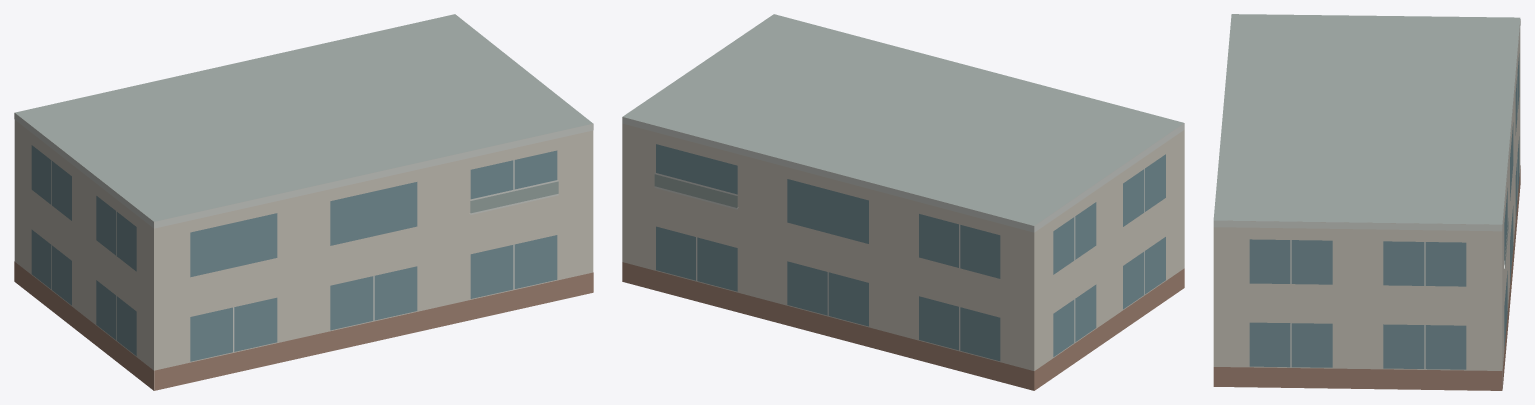
The model's file is survey-upis-32876534.glb.
The picture shows the model from 3 angles, left to right: view 1: azimuth 30°, elevation 25°; view 2: azimuth 150°, elevation 25°; view 3: azimuth 270°, elevation 25°; orthographic projection. The views are drawn at different scales.
Parts seen in each view (by area): view 1: survey-upis-32876534.tmp; view 2: survey-upis-32876534.tmp; view 3: survey-upis-32876534.tmp.
Part boxes in pixels (box(x1,y1,x2,y2)): survey-upis-32876534.tmp: box(14, 14, 593, 390); survey-upis-32876534.tmp: box(622, 14, 1184, 390); survey-upis-32876534.tmp: box(1213, 14, 1520, 390).
Bounding box in the file's own units: 16.59 × 6.1 × 10.22.
